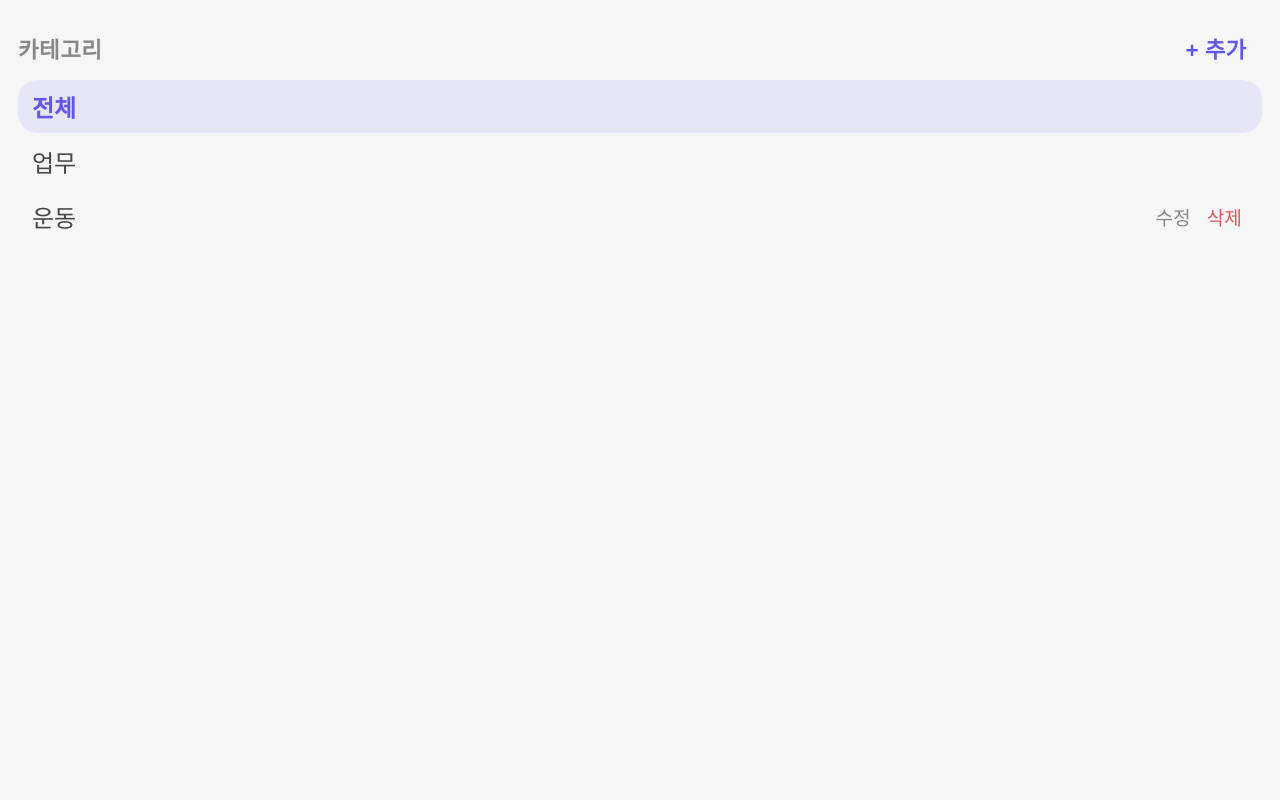
Test: CategoryList › + 추가 버튼 클릭 시 카테고리 생성 모달이 열린다
Click the button "+ 추가".
click(1216, 48)  # box [1170,24,1262,72]
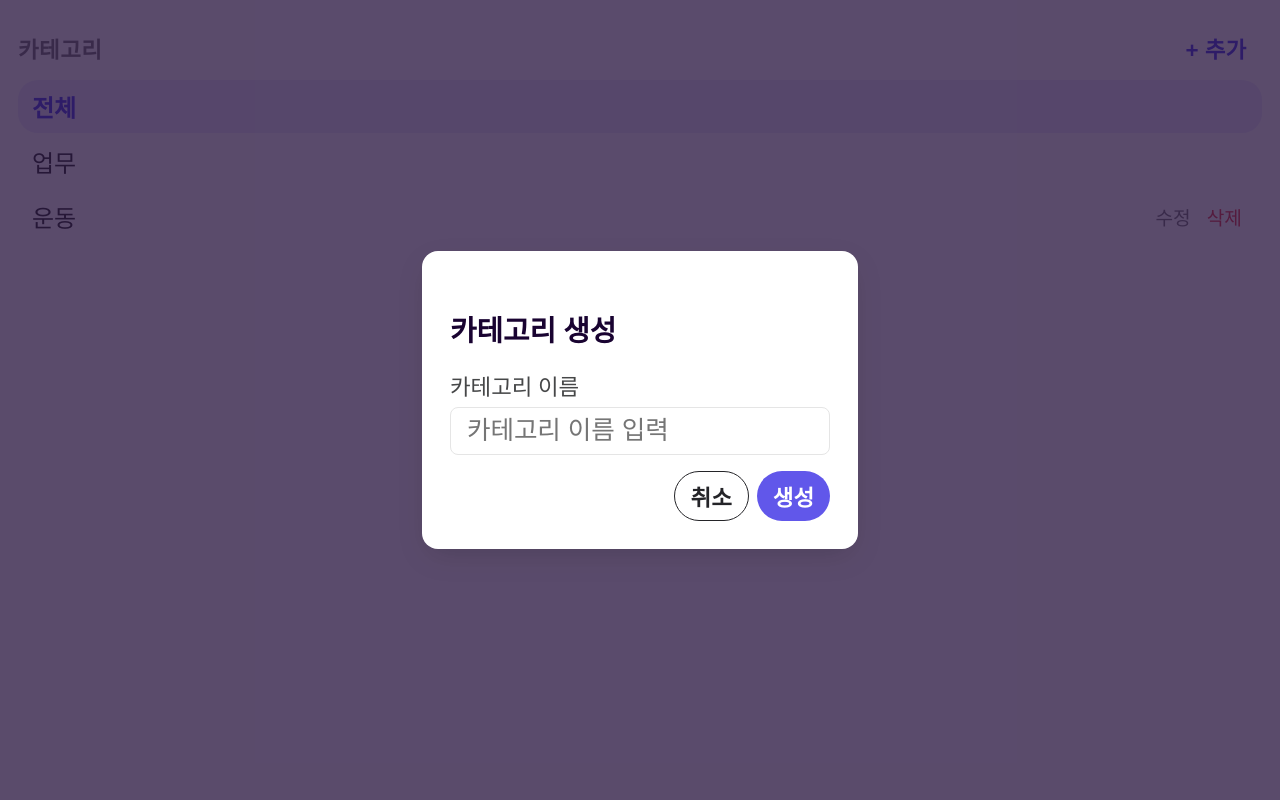
Expected: the dialog is shown
Expected: the heading "카테고리 생성" is shown, [450,315,616,347]
